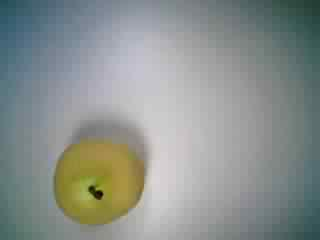pear: (43, 128, 152, 230)
